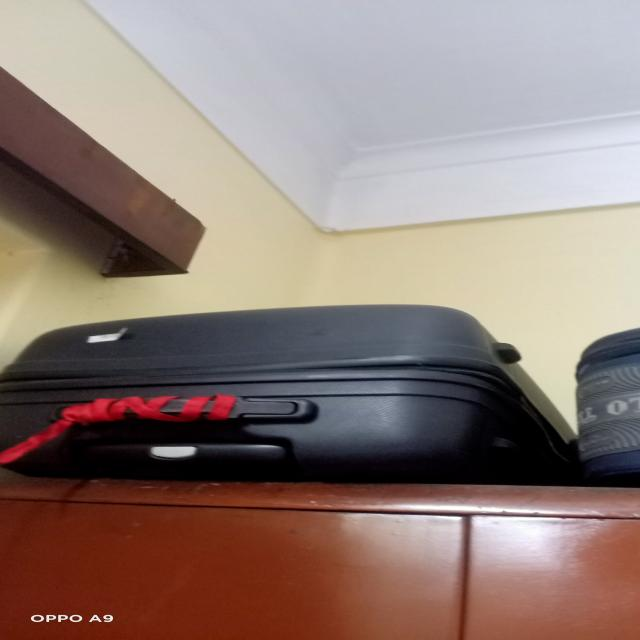suitcaserotation: (0, 300, 579, 485)
